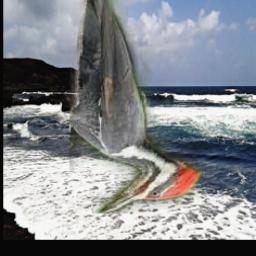Woodpecker: (69, 0, 202, 215)
